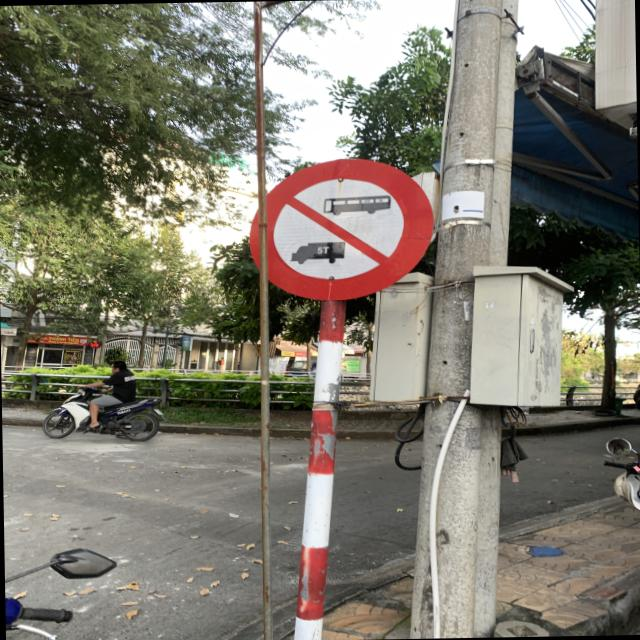Cam_XeTai_XeKhach: (248, 155, 432, 299)
